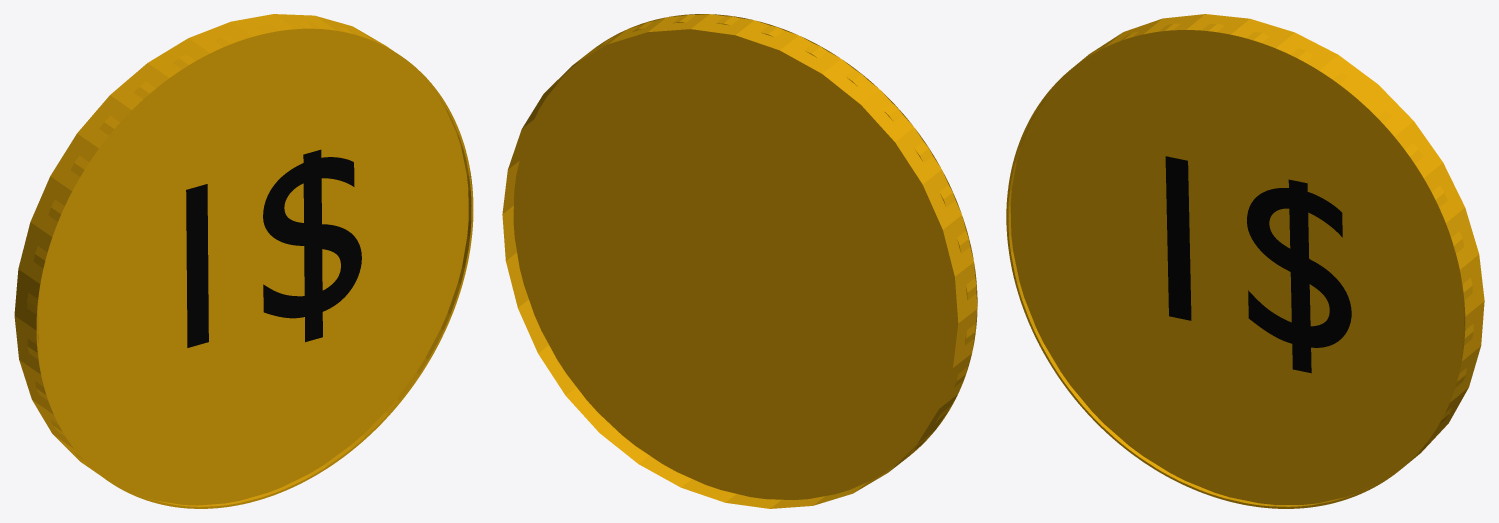
Rendered from coin.fbx.
The picture shows the model from 3 angles, left to right: view 1: azimuth 30°, elevation 25°; view 2: azimuth 150°, elevation 25°; view 3: azimuth 330°, elevation 25°; orthographic projection.
Parts seen in each view (by area): view 1: Cylinder, 1; view 2: Cylinder; view 3: Cylinder, 1.
Boxes of the visible parts, x1=… form: Cylinder: x1=14, y1=14, x2=473, y2=508; 1: x1=186, y1=149, x2=361, y2=347; Cylinder: x1=502, y1=14, x2=977, y2=508; Cylinder: x1=1006, y1=14, x2=1484, y2=508; 1: x1=1165, y1=156, x2=1351, y2=373.
Bounding box in the file's own units: 2 × 2 × 0.2399.
